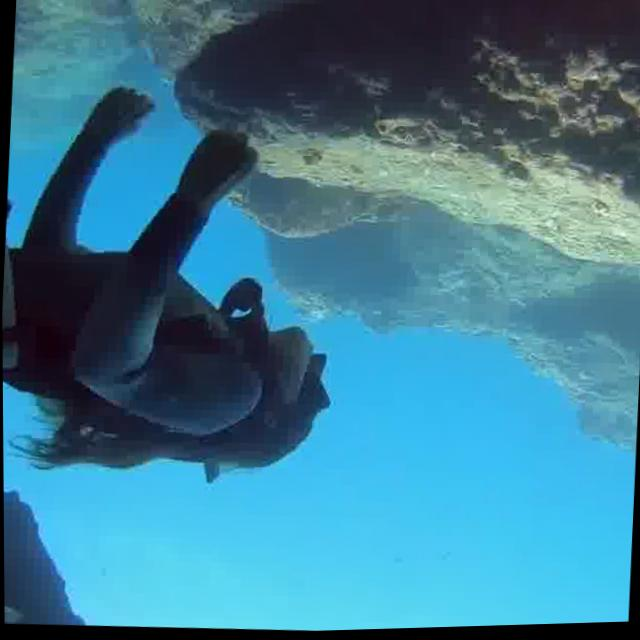human: (0, 71, 351, 507)
